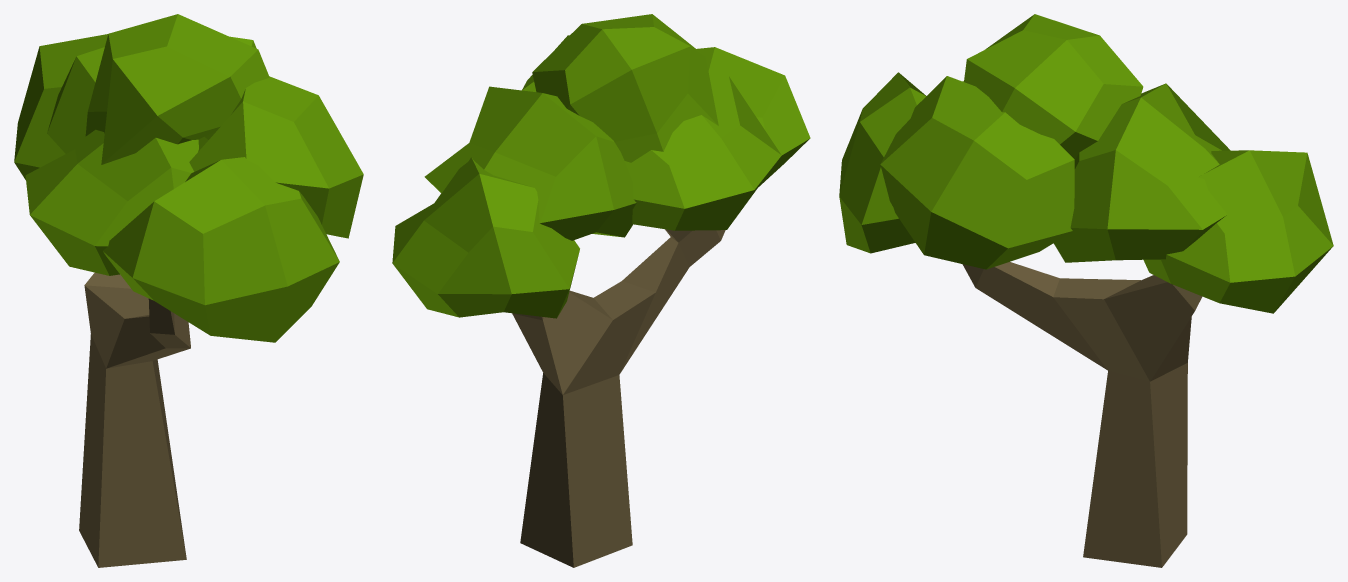
3 renders of one model, left to right at view 1: azimuth 30°, elevation 25°; view 2: azimuth 150°, elevation 25°; view 3: azimuth 270°, elevation 25°, orthographic. The views are drawn at different scales.
Visible parts, largest first — view 1: ki21; view 2: ki21; view 3: ki21.
Part boxes in pixels (x1,y1,x2,y2): ki21: (14,14,363,567); ki21: (392,14,810,567); ki21: (839,14,1333,567).
Size of the model in its own units: 1.65 by 2.85 by 2.51.
